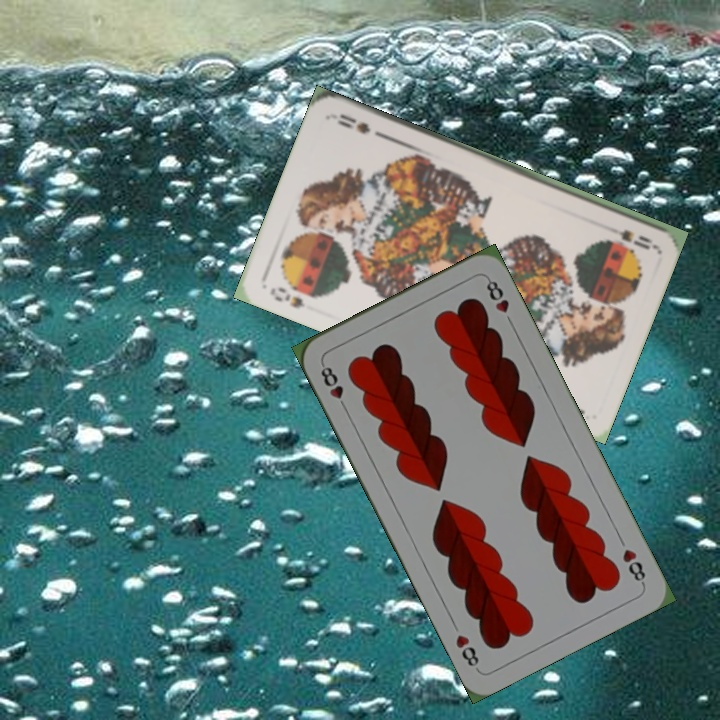H8: (316, 359, 351, 414), (618, 544, 648, 588)
SO: (599, 220, 656, 253), (265, 282, 308, 311)
